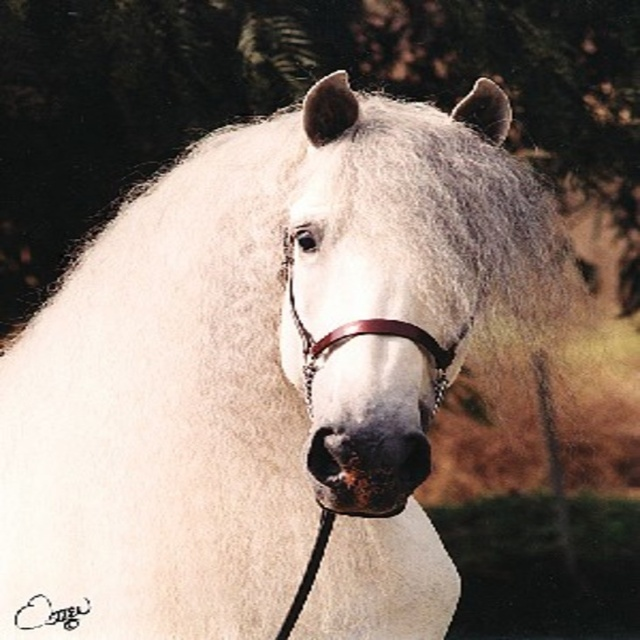Horse: (2, 66, 582, 638)
